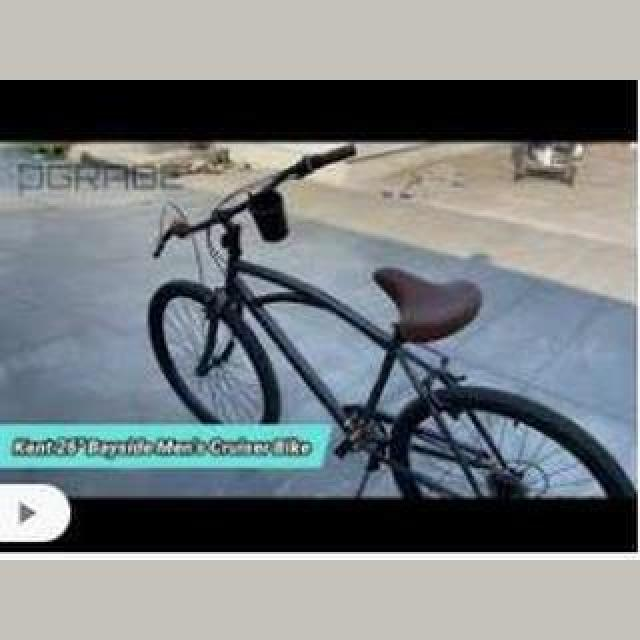Person: (144, 146, 638, 500)
